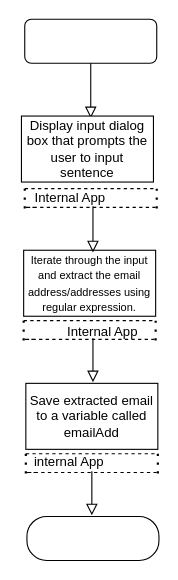
Some shapes in this 178 by 580 pixel diagram are drawn without their labels. Here are the shapes that lost their labels. From the top down, the box of each, then its label:
(24, 18, 157, 63): Start
(26, 515, 159, 560): End
